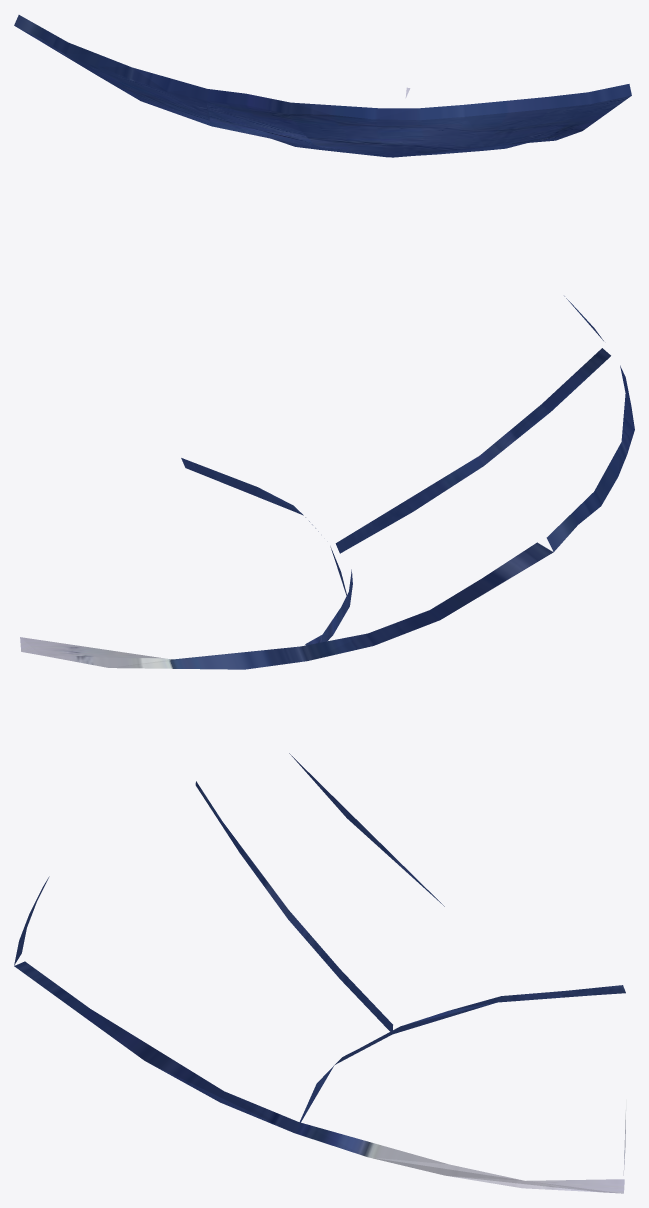
3 renders of one model, top to bottom at view 1: azimuth 30°, elevation 25°; view 2: azimuth 150°, elevation 25°; view 3: azimuth 270°, elevation 25°, orthographic. The views are drawn at different scales.
Size of the model in its own units: 4636180 by 2012902 by 4630452.
1 material, 1 textured.
